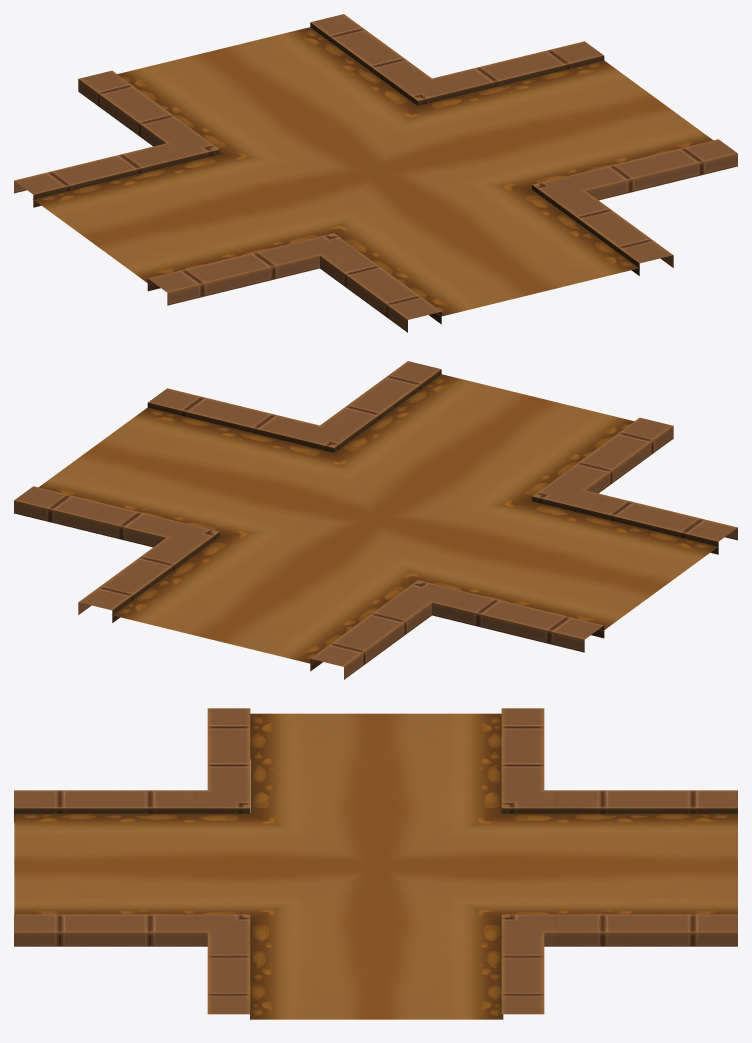
File: Cross_Road_Piece.FBX
3 views of the same model, one above another, from view 1: azimuth 30°, elevation 25°; view 2: azimuth 150°, elevation 25°; view 3: azimuth 270°, elevation 25° (orthographic). The views are drawn at different scales.
Visible parts, largest first — view 1: Object351; view 2: Object351; view 3: Object351.
Boxes of the visible parts, bbox=[...] form: Object351: bbox=[14, 14, 737, 332]; Object351: bbox=[14, 361, 737, 679]; Object351: bbox=[14, 708, 737, 1019].
Size of the model in its own units: 351 by 7.61 by 351.
